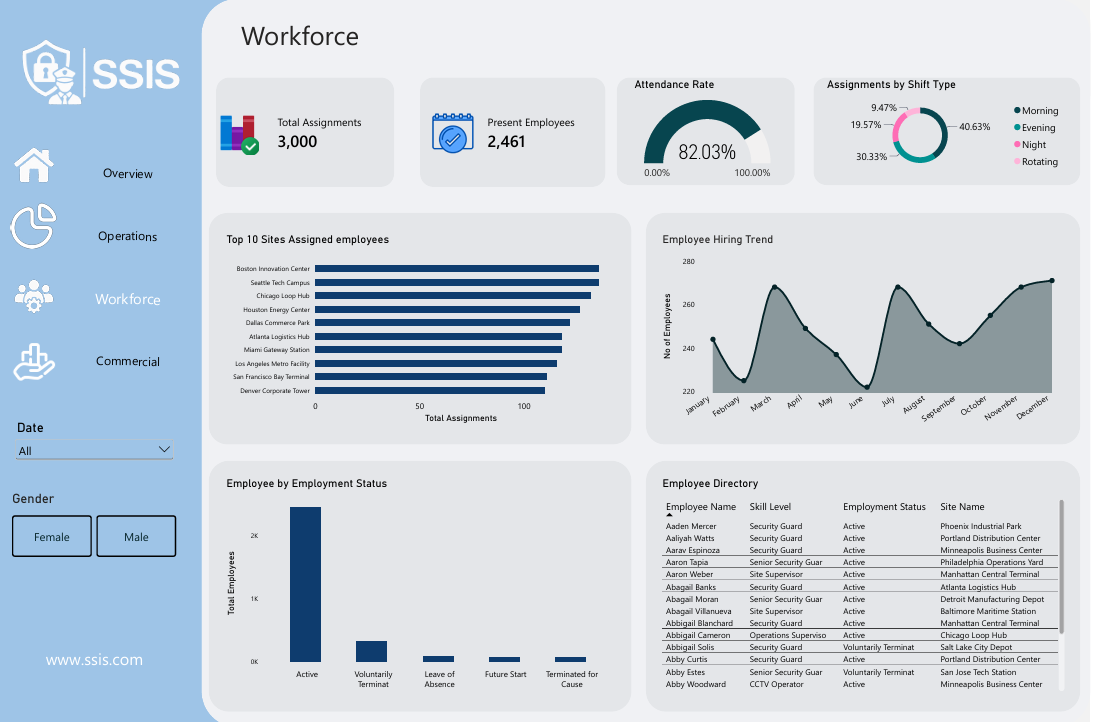

What the dashboard file says about the page in this screenshot:
{"tool":"powerbi","page":{"name":"Workforce","canvas":[1280,720],"ordinal":1},"visuals":[{"type":"textbox","box":[420.2,11.8,855.2,64.7],"z":0},{"type":"actionButton","box":[26.4,602.4,175.4,58.9],"z":0,"group":"g4"},{"type":"shape","box":[9.2,11.8,205.5,696.4],"z":1000},{"type":"image","box":[26.4,602.4,38,58.9],"z":1000,"group":"g4"},{"type":"textbox","box":[30.1,27.5,166.3,61.5],"z":2000},{"type":"actionButton","box":[22,395.3,174.1,58.9],"z":2000,"group":"g2"},{"type":"group","id":"g1","title":"Group 1","box":[22,301.2,176.3,58.8],"z":3000},{"type":"actionButton","box":[22,301.2,176.7,58.9],"z":3000,"group":"g1"},{"type":"group","id":"g2","title":"Group 2","box":[22,395.3,173.4,58.8],"z":4000},{"type":"group","id":"g3","title":"Group 3","box":[26.4,502.5,174.9,60.2],"z":5000},{"type":"actionButton","box":[26.4,502.7,175.4,60.2],"z":5000,"group":"g3"},{"type":"group","id":"g4","title":"Group 4","box":[26.4,602.4,174.9,58.8],"z":6000},{"type":"image","box":[23.3,395.3,37.4,58.9],"z":6001,"group":"g2"},{"type":"image","box":[27.8,502.5,37.7,58.9],"z":6002,"group":"g3"},{"type":"image","box":[22,301.2,39.3,58.9],"z":6004,"group":"g1"},{"type":"group","id":"g5","title":"Group 5","box":[221.4,86.7,212.3,101],"z":7000},{"type":"cardVisual","title":"Present Employees","fields":{"Data":["ssis attendance.Present Employees"]},"box":[454,86.7,191.6,98],"z":7000,"group":"g8"},{"type":"cardVisual","title":"Total Assignments","fields":{"Data":["ssis employee_assignment.Total Assignments"]},"box":[221.4,88.2,212.3,99.5],"z":7000,"group":"g7"},{"type":"cardVisual","title":"Attendance Rate","fields":{"Data":["ssis attendance.Attendance Rate"]},"box":[668.6,91.1,198.4,94],"z":7000,"group":"g9"},{"type":"group","id":"g6","title":"Group 7","box":[454,85.2,186.6,98.4],"z":8000},{"type":"group","id":"g7","title":"Group 2","box":[221.4,88.2,212.3,99.5],"z":8000,"group":"g5"},{"type":"group","id":"g8","title":"Group 2","box":[454,86.7,186.7,97.2],"z":9000,"group":"g6"},{"type":"clusteredColumnChart","title":"Employee by Employment Status","fields":{"Category":["ssis employee.employment_status"],"Y":["CountNonNull(ssis employee.employee_name)"]},"box":[874.5,454.3,400.6,254],"z":9000},{"type":"donutChart","title":"Assignments by Shift Type","fields":{"Category":["ssis employee_assignment.shift_type"],"Y":["CountNonNull(ssis employee_assignment.assignment_id)"]},"box":[227.8,454.3,329.9,254],"z":10000},{"type":"image","box":[668.6,91.1,55.8,94],"z":11000,"group":"g9"},{"type":"clusteredBarChart","title":"Top 10 Sites Assigned employees","fields":{"Category":["ssis site.site_name"],"Y":["CountNonNull(ssis employee_assignment.assignment_id)"]},"box":[878.7,94,396.7,352.7],"z":11000},{"type":"image","box":[227.3,86.7,82.6,98.7],"z":11001,"group":"g5"},{"type":"image","box":[459.6,85.2,53.9,97.2],"z":11002,"group":"g6"},{"type":"tableEx","title":"Employee Directory","fields":{"Values":["ssis employee.employee_name","ssis employee.skill_level","ssis employee.employment_status","ssis site.site_name"]},"box":[230.4,197.7,636.2,243.5],"z":12000},{"type":"lineChart","title":"Employee Hiring Trend","fields":{"Category":["ssis employee.hire_date.Variation.Date Hierarchy.Year","ssis employee.hire_date.Variation.Date Hierarchy.Month"],"Y":["CountNonNull(ssis employee.employee_id)"]},"box":[566.8,454.3,299.8,254],"z":13000},{"type":"textbox","box":[227.8,27.9,158.7,48.5],"z":14000},{"type":"image","box":[29.4,94,166,173.4],"z":15000},{"type":"group","id":"g9","title":"Group 6","box":[668.6,91.1,198.4,94],"z":16000}]}

Visuals, with their boxes on the page's 1280x720 design canvas (x1, y1, x2, y2). These are canvas units, not pixel positions in the 1098x722 screenshot, which may show the page scaled, cropped or inside an application window:
textbox: <bbox>420, 12, 1275, 76</bbox>
actionButton: <bbox>26, 602, 202, 661</bbox>
shape: <bbox>9, 12, 215, 708</bbox>
image: <bbox>26, 602, 64, 661</bbox>
textbox: <bbox>30, 28, 196, 89</bbox>
actionButton: <bbox>22, 395, 196, 454</bbox>
"Group 1" group: <bbox>22, 301, 198, 360</bbox>
actionButton: <bbox>22, 301, 199, 360</bbox>
"Group 2" group: <bbox>22, 395, 195, 454</bbox>
"Group 3" group: <bbox>26, 502, 201, 563</bbox>
actionButton: <bbox>26, 503, 202, 563</bbox>
"Group 4" group: <bbox>26, 602, 201, 661</bbox>
image: <bbox>23, 395, 61, 454</bbox>
image: <bbox>28, 502, 66, 561</bbox>
image: <bbox>22, 301, 61, 360</bbox>
"Group 5" group: <bbox>221, 87, 434, 188</bbox>
"Present Employees" cardVisual: <bbox>454, 87, 646, 185</bbox>
"Total Assignments" cardVisual: <bbox>221, 88, 434, 188</bbox>
"Attendance Rate" cardVisual: <bbox>669, 91, 867, 185</bbox>
"Group 7" group: <bbox>454, 85, 641, 184</bbox>
"Group 2" group: <bbox>221, 88, 434, 188</bbox>
"Group 2" group: <bbox>454, 87, 641, 184</bbox>
"Employee by Employment Status" clusteredColumnChart: <bbox>874, 454, 1275, 708</bbox>
"Assignments by Shift Type" donutChart: <bbox>228, 454, 558, 708</bbox>
image: <bbox>669, 91, 724, 185</bbox>
"Top 10 Sites Assigned employees" clusteredBarChart: <bbox>879, 94, 1275, 447</bbox>
image: <bbox>227, 87, 310, 185</bbox>
image: <bbox>460, 85, 514, 182</bbox>
"Employee Directory" tableEx: <bbox>230, 198, 867, 441</bbox>
"Employee Hiring Trend" lineChart: <bbox>567, 454, 867, 708</bbox>
textbox: <bbox>228, 28, 386, 76</bbox>
image: <bbox>29, 94, 195, 267</bbox>
"Group 6" group: <bbox>669, 91, 867, 185</bbox>
